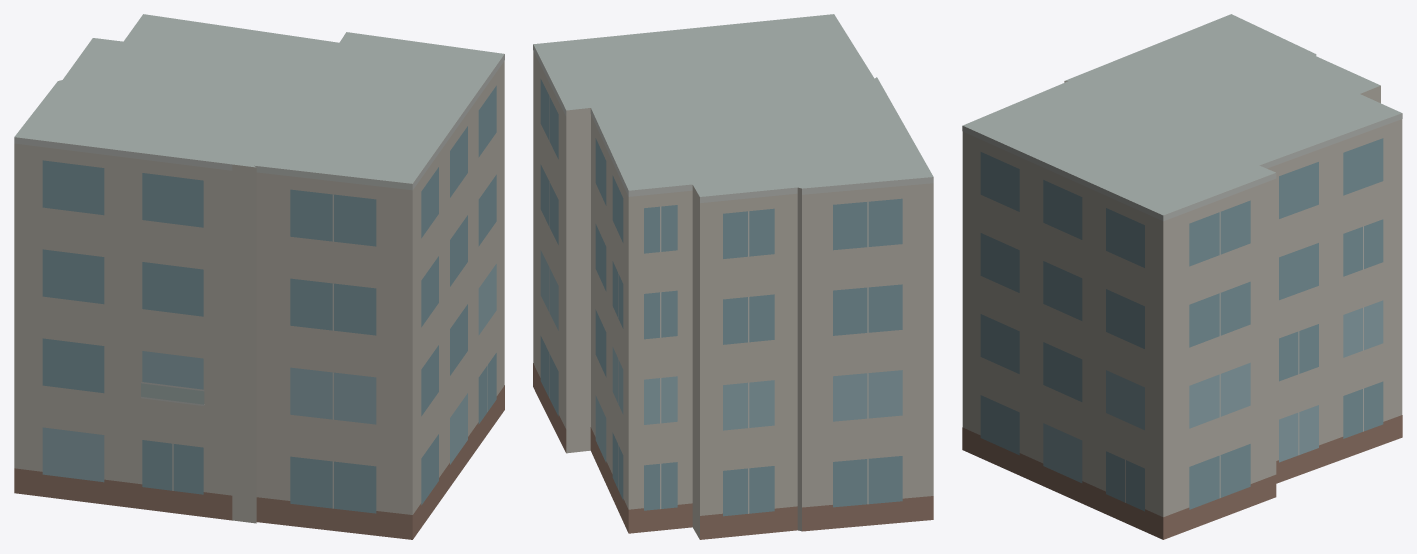
The model's file is survey-upis-32483561.glb.
3 views of the same model, side by side, from view 1: azimuth 30°, elevation 25°; view 2: azimuth 150°, elevation 25°; view 3: azimuth 270°, elevation 25° (orthographic). The views are drawn at different scales.
Parts seen in each view (by area): view 1: survey-upis-32483561.tmp; view 2: survey-upis-32483561.tmp; view 3: survey-upis-32483561.tmp.
Part boxes in pixels (x1,y1,x2,y2): survey-upis-32483561.tmp: [14, 14, 504, 539]; survey-upis-32483561.tmp: [533, 14, 933, 539]; survey-upis-32483561.tmp: [962, 14, 1402, 539].
Size of the model in its own units: 17.99 by 13.5 by 16.6.
